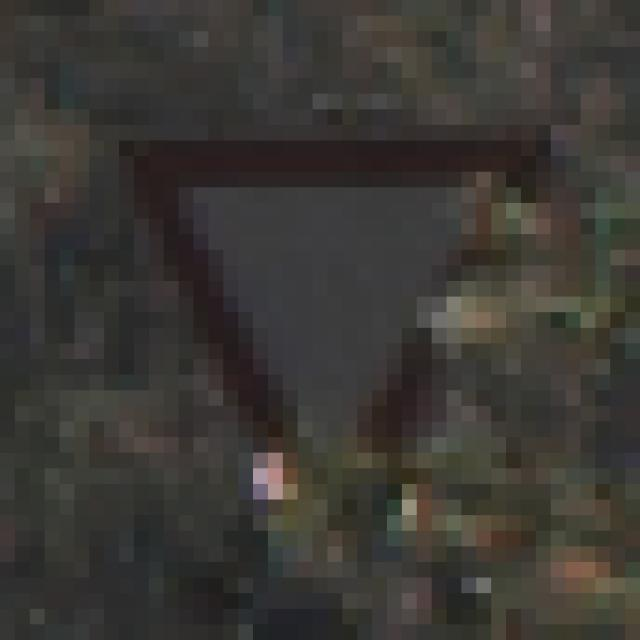Give Way: (76, 95, 567, 563)
